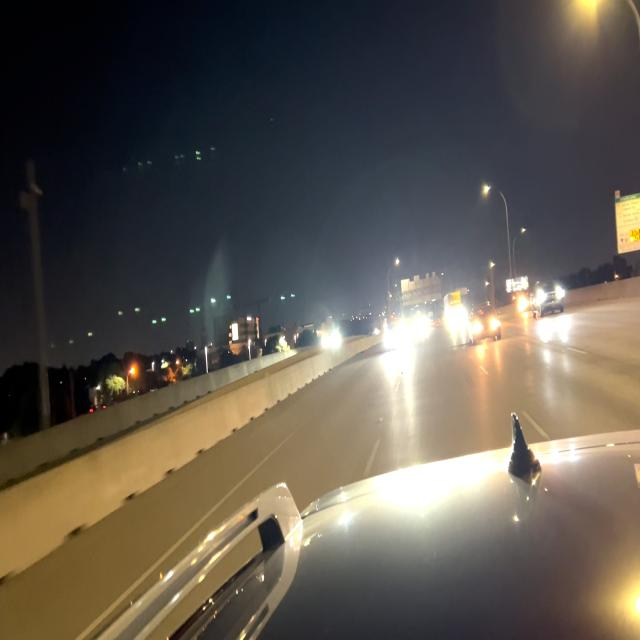back-of-sign: (400, 273, 443, 309)
